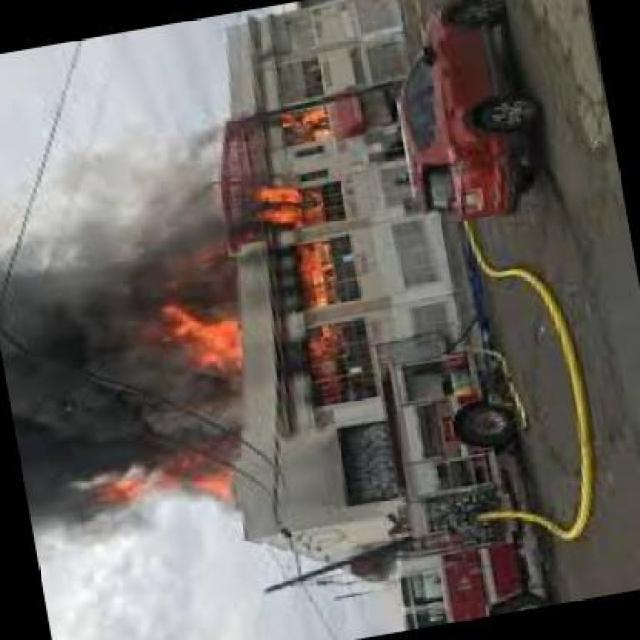Fire: (158, 300, 253, 378), (161, 433, 247, 491), (286, 96, 354, 156), (260, 179, 342, 226), (295, 235, 347, 303)
Smoke: (5, 241, 164, 547), (77, 114, 227, 240)
